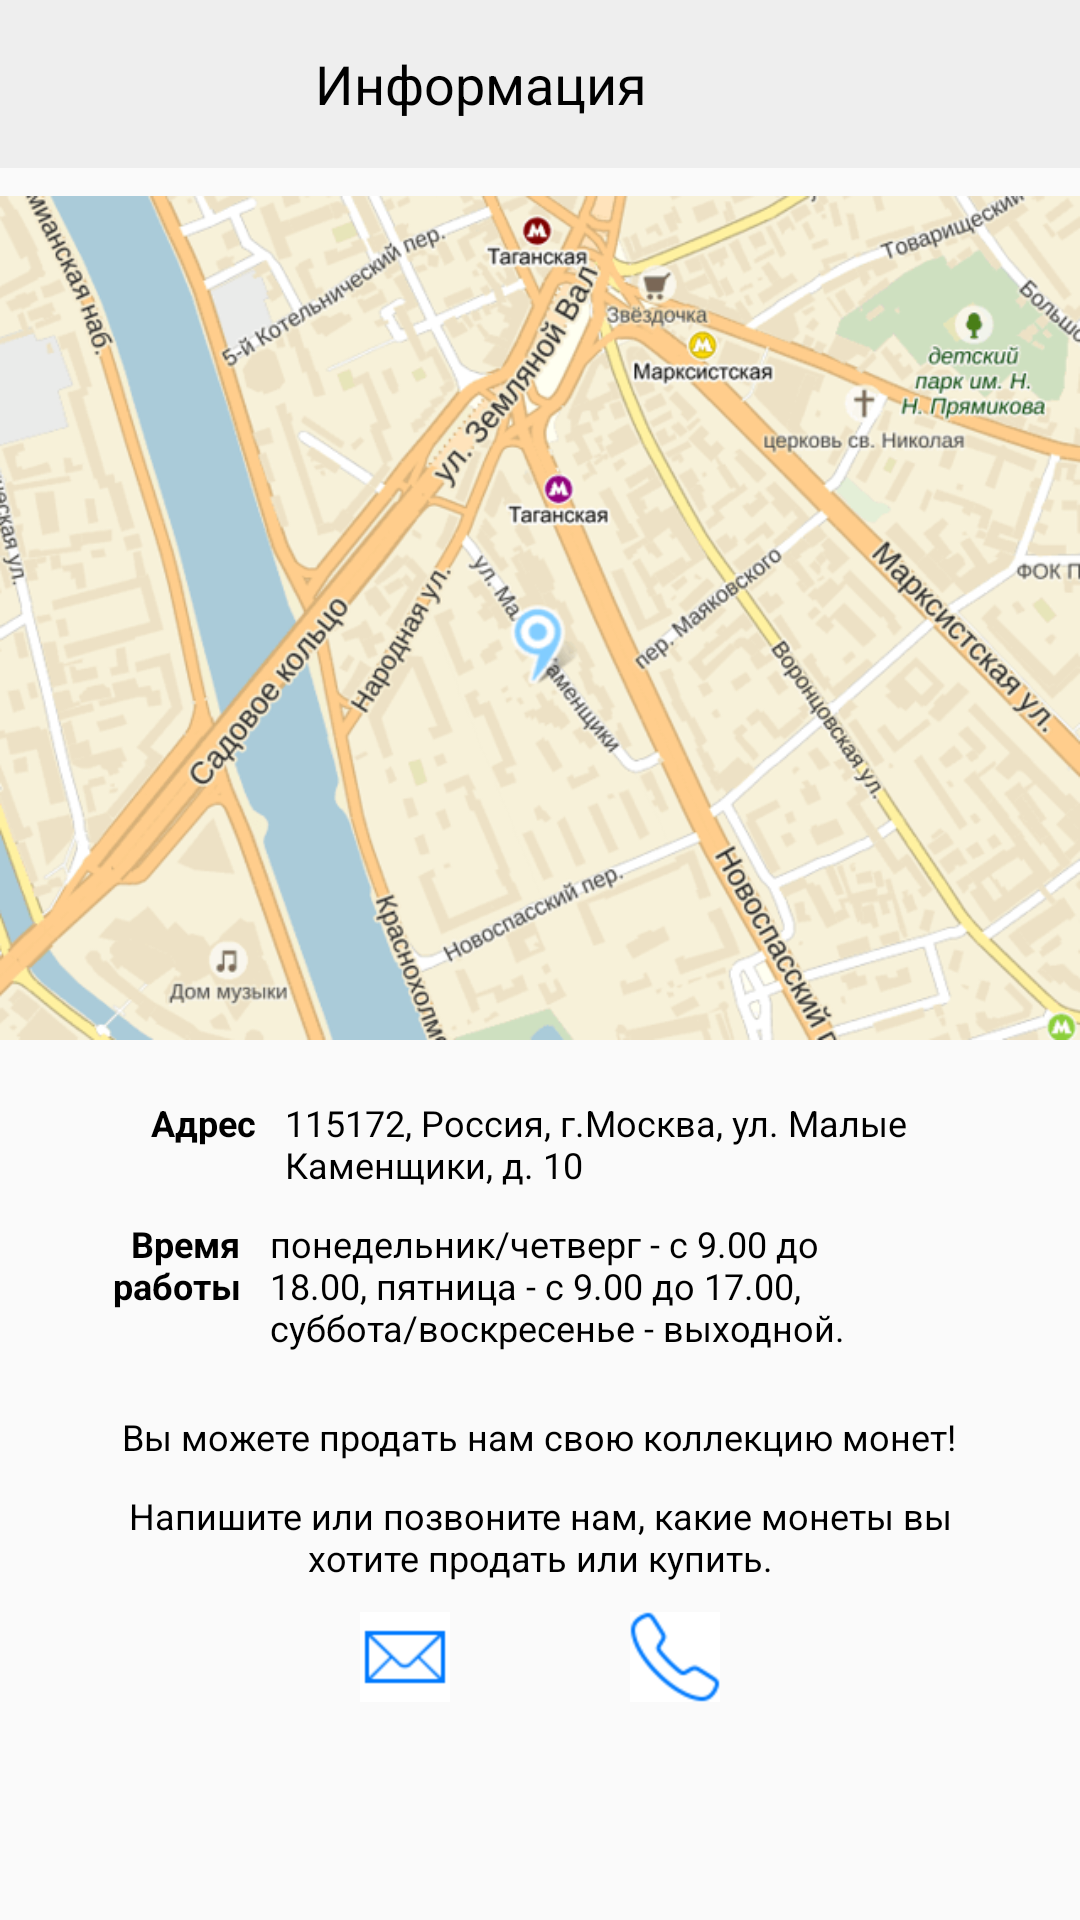

Where to tap for icons on this 1080x1920 app screen, as point (x, y):
email: point (405, 1657)
tel: point (675, 1657)
